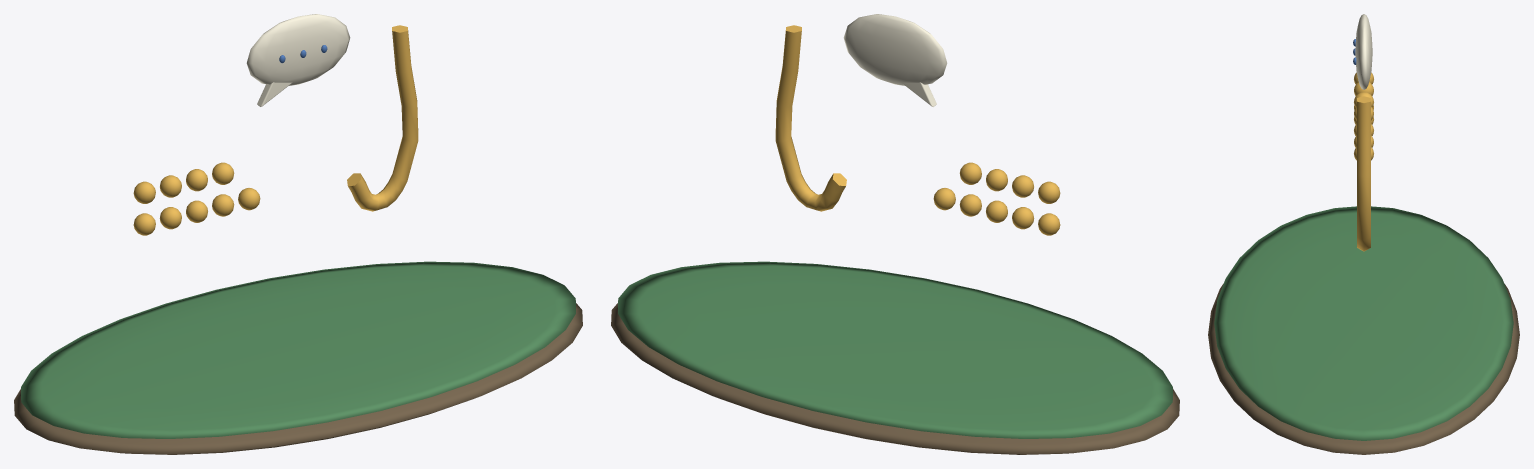
Rendered from complete-second-many-exclamation.glb.
3 renders of one model, left to right at view 1: azimuth 30°, elevation 25°; view 2: azimuth 150°, elevation 25°; view 3: azimuth 270°, elevation 25°, orthographic. The views are drawn at different scales.
Visible parts, largest first — view 1: complete-second-many-exclamation_surface_01, complete-second-many-exclamation_surface_00, complete-second-many-exclamation_surface_02, complete-second-many-exclamation_surface_03; view 2: complete-second-many-exclamation_surface_01, complete-second-many-exclamation_surface_00, complete-second-many-exclamation_surface_02, complete-second-many-exclamation_surface_03; view 3: complete-second-many-exclamation_surface_01, complete-second-many-exclamation_surface_00, complete-second-many-exclamation_surface_02, complete-second-many-exclamation_surface_03.
Boxes of the visible parts, box(x1,y1,x2,y2) form: complete-second-many-exclamation_surface_01: box(21, 261, 575, 438); complete-second-many-exclamation_surface_00: box(14, 303, 582, 454); complete-second-many-exclamation_surface_02: box(133, 25, 418, 235); complete-second-many-exclamation_surface_03: box(246, 14, 350, 106); complete-second-many-exclamation_surface_01: box(618, 261, 1172, 438); complete-second-many-exclamation_surface_00: box(611, 303, 1179, 454); complete-second-many-exclamation_surface_02: box(775, 25, 1060, 235); complete-second-many-exclamation_surface_03: box(843, 14, 947, 106); complete-second-many-exclamation_surface_01: box(1214, 206, 1513, 440); complete-second-many-exclamation_surface_00: box(1208, 284, 1519, 454); complete-second-many-exclamation_surface_02: box(1354, 72, 1373, 251); complete-second-many-exclamation_surface_03: box(1355, 14, 1372, 89).
Bounding box in the file's own units: 4.56 × 2.9 × 2.5.
